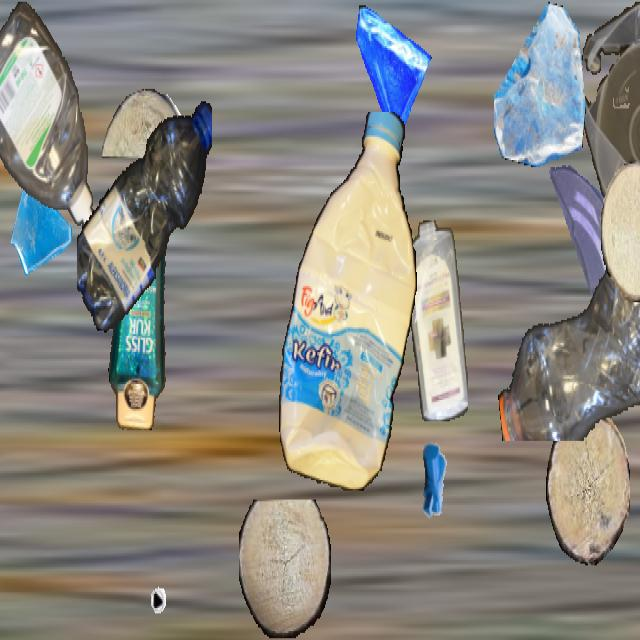glass: (494, 2, 586, 165), (545, 158, 629, 308), (350, 2, 432, 148), (9, 167, 75, 285)
metal: (404, 428, 466, 538), (113, 516, 173, 622)
plastic: (275, 112, 417, 489), (493, 192, 640, 441), (77, 89, 211, 338), (0, 2, 95, 233), (104, 176, 176, 428), (580, 2, 640, 236), (407, 220, 467, 420)
wood: (546, 412, 630, 566), (239, 500, 331, 638), (102, 89, 186, 156), (601, 162, 640, 300)
